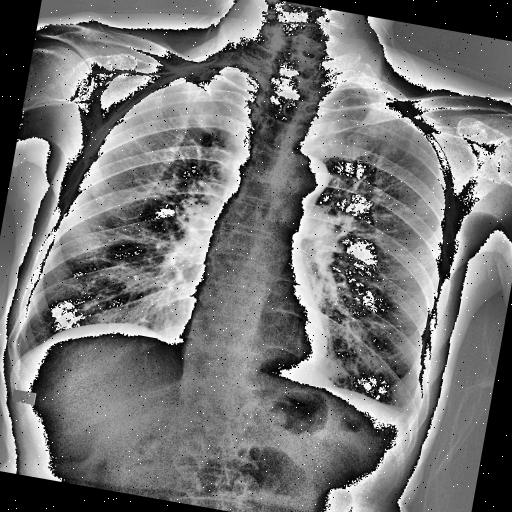0- Aortic enlargement: (274, 147, 332, 192)
10- Pleural effusion: (381, 393, 425, 431), (387, 397, 423, 427), (390, 398, 424, 428)
11- Pleural thickening: (381, 393, 425, 431), (387, 397, 423, 427), (390, 398, 424, 428)
